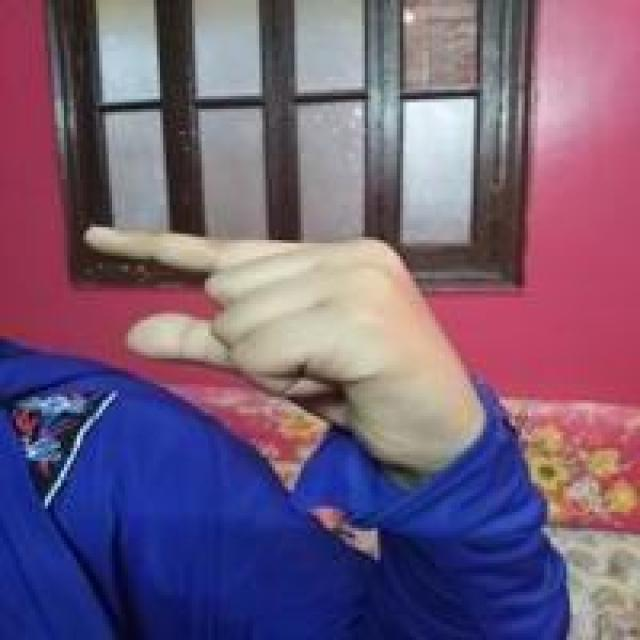G: (77, 219, 470, 424)
